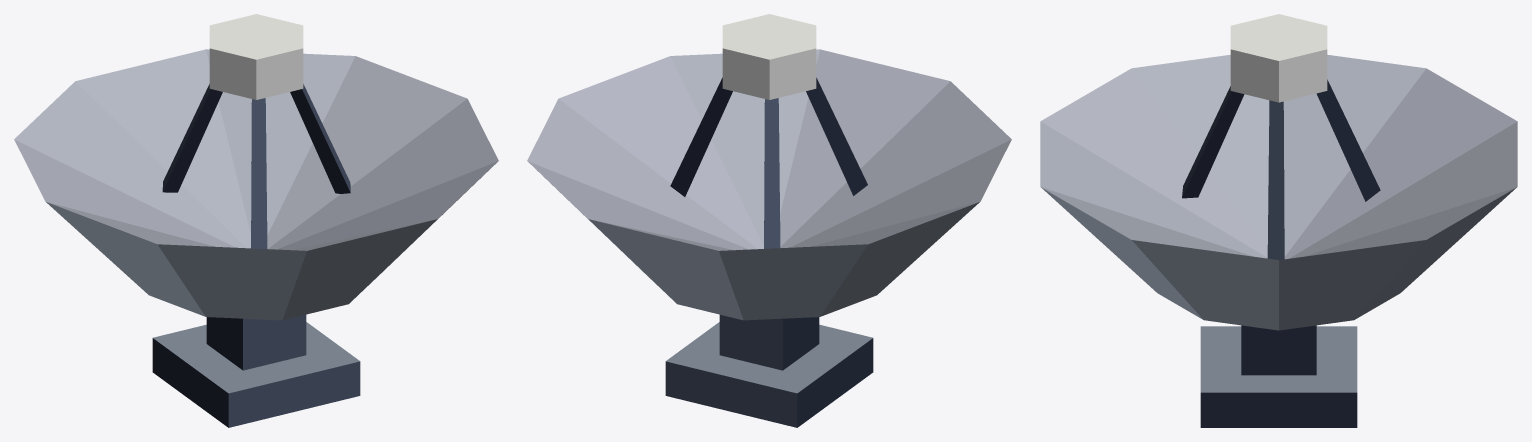
Rendered from TB_CITY_Prop_Antenna.FBX.
3 views of the same model, side by side, from view 1: azimuth 30°, elevation 25°; view 2: azimuth 150°, elevation 25°; view 3: azimuth 270°, elevation 25° (orthographic). The views are drawn at different scales.
Parts seen in each view (by area): view 1: TB_CITY_Prop_Antenna_Dish, TB_CITY_Prop_Antenna_Base; view 2: TB_CITY_Prop_Antenna_Dish, TB_CITY_Prop_Antenna_Base; view 3: TB_CITY_Prop_Antenna_Dish, TB_CITY_Prop_Antenna_Base.
Boxes of the visible parts, x1,y1,x2,y2 form: TB_CITY_Prop_Antenna_Dish: [14, 14, 498, 320]; TB_CITY_Prop_Antenna_Base: [152, 314, 360, 427]; TB_CITY_Prop_Antenna_Dish: [527, 14, 1011, 320]; TB_CITY_Prop_Antenna_Base: [665, 314, 873, 427]; TB_CITY_Prop_Antenna_Dish: [1040, 14, 1517, 330]; TB_CITY_Prop_Antenna_Base: [1200, 325, 1357, 427].
Size of the model in its own units: 12.81 by 10.07 by 12.19.
